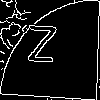Z: (25, 25, 58, 72)
